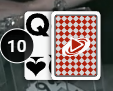q: (24, 12, 52, 39)
